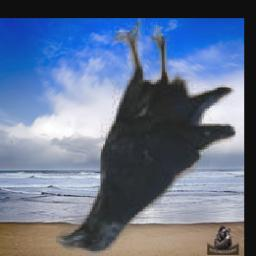Crow: (57, 18, 236, 256)
